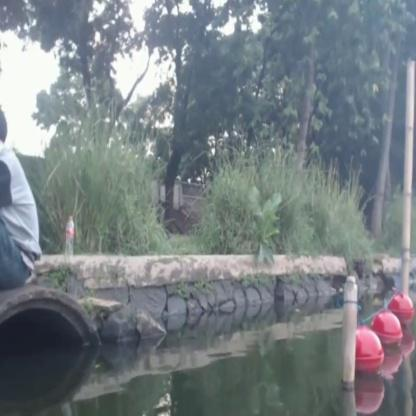red_buoy: (355, 329, 382, 373), (375, 309, 400, 356), (393, 294, 415, 336)
